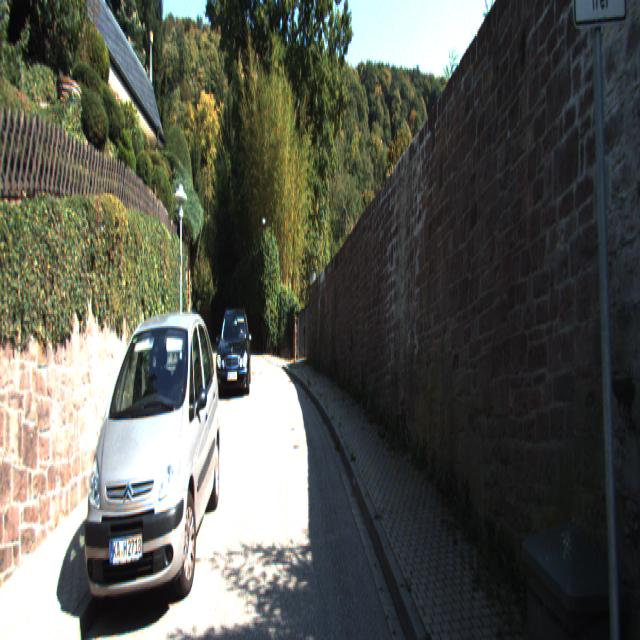Car: (78, 292, 223, 633), (217, 306, 250, 398)
